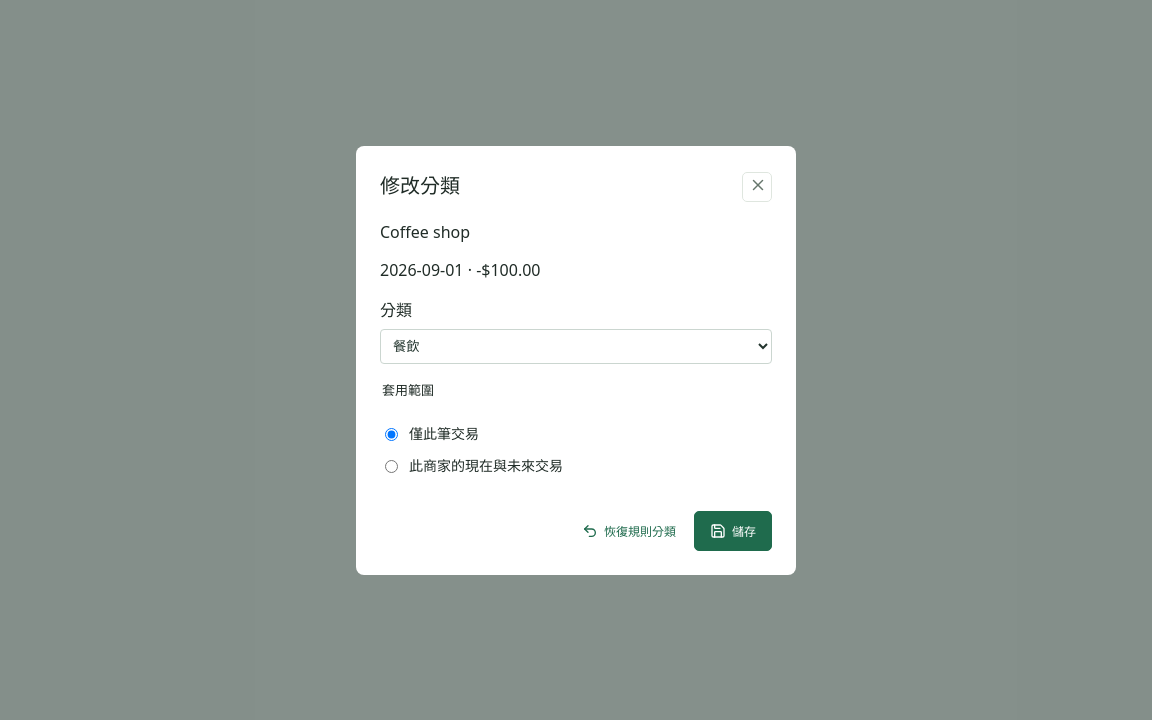
merchant preview failure blocks writes and stale save requires a new preview
Click the radio button labelled "此商家的現在與未來交易" at (392, 466), box [385,458,398,474]
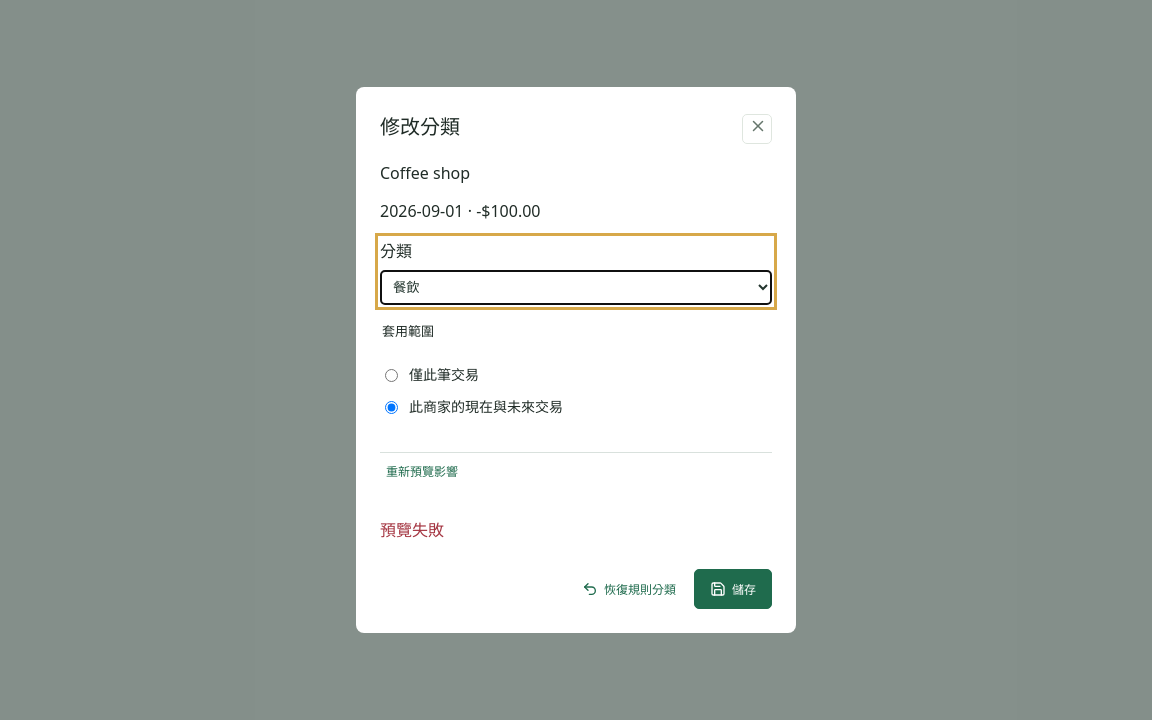
Now the message reads "預覽失敗", box [380,519,444,541]
Now the button "儲存" is disabled, box [694,569,772,609]
Click the button "重新預覽影響" at (422, 471), box [380,461,464,481]
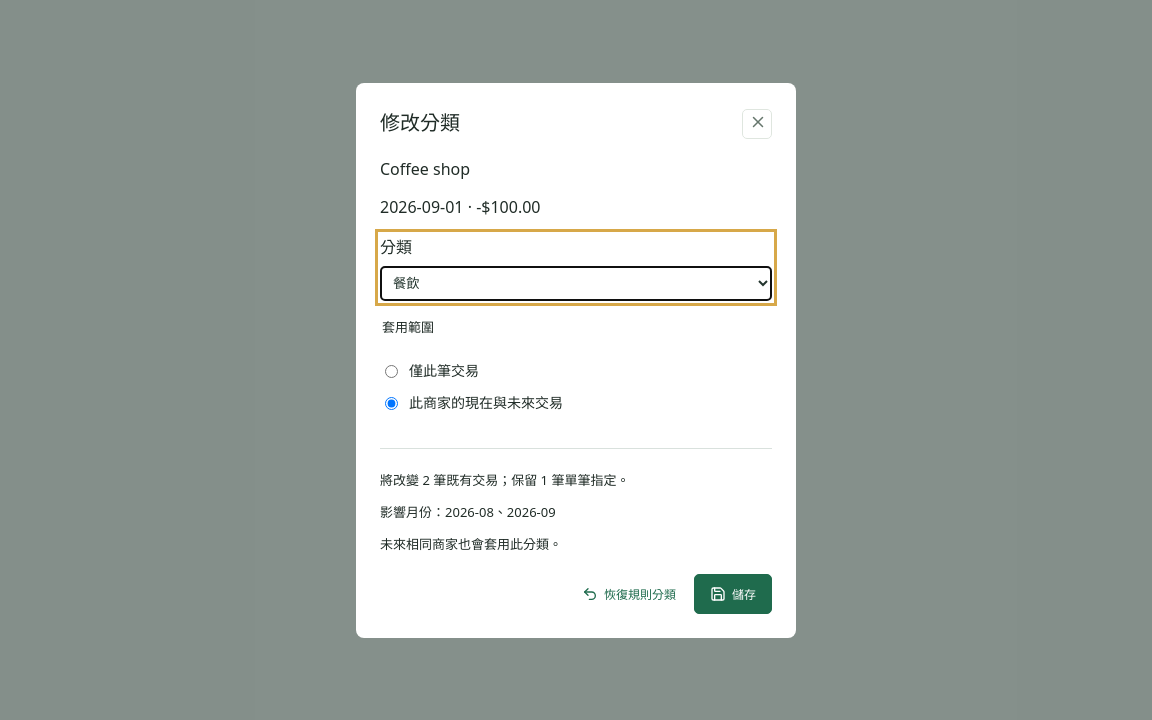
Now the text "將改變 2 筆既有交易；保留 1 筆單筆指定。" is shown, box [380,470,629,488]
Click the button "儲存" at (733, 594), box [694,574,772,614]
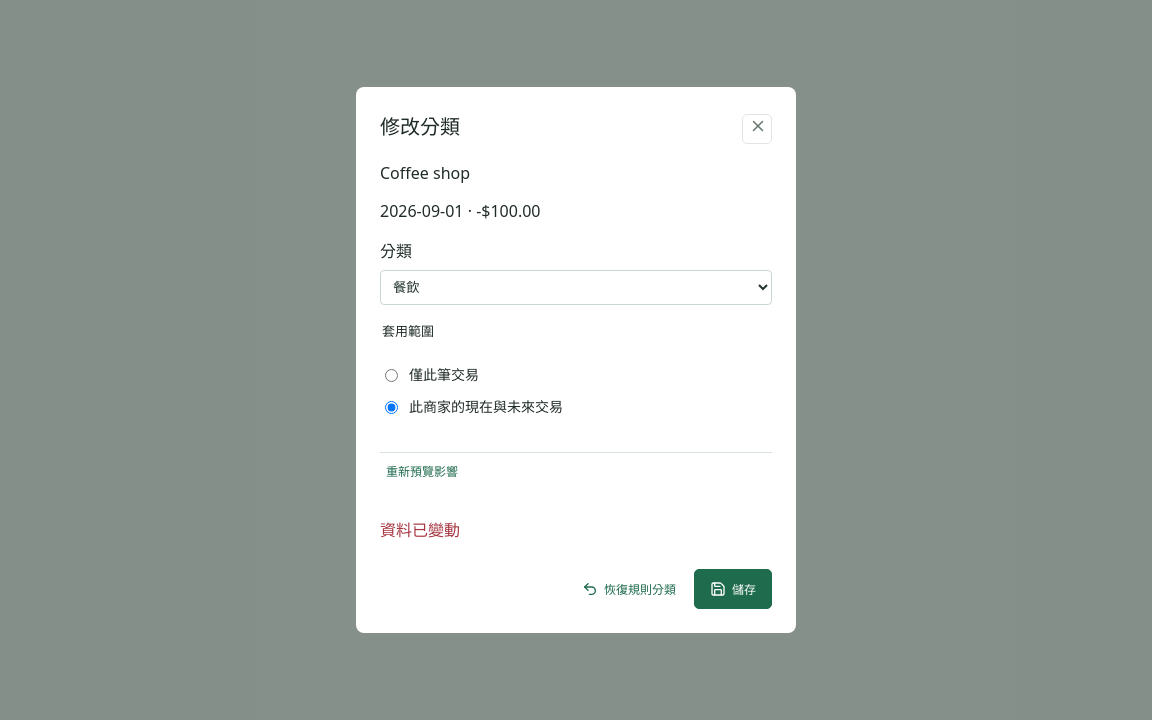
Now the message reads "資料已變動", box [380,519,460,541]
Now the button "儲存" is disabled, box [694,569,772,609]
